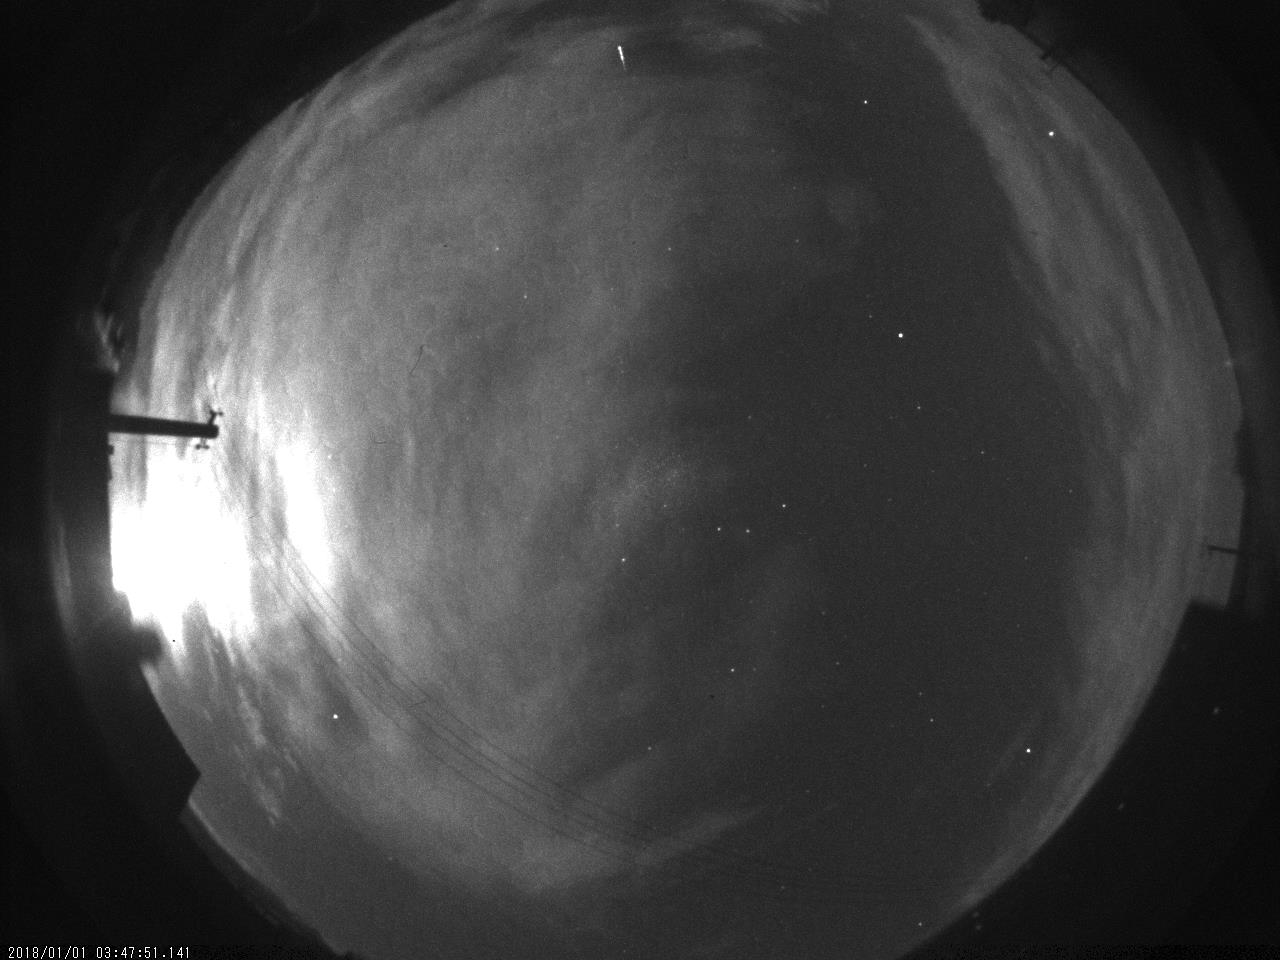meteor: (603, 41, 639, 79)
